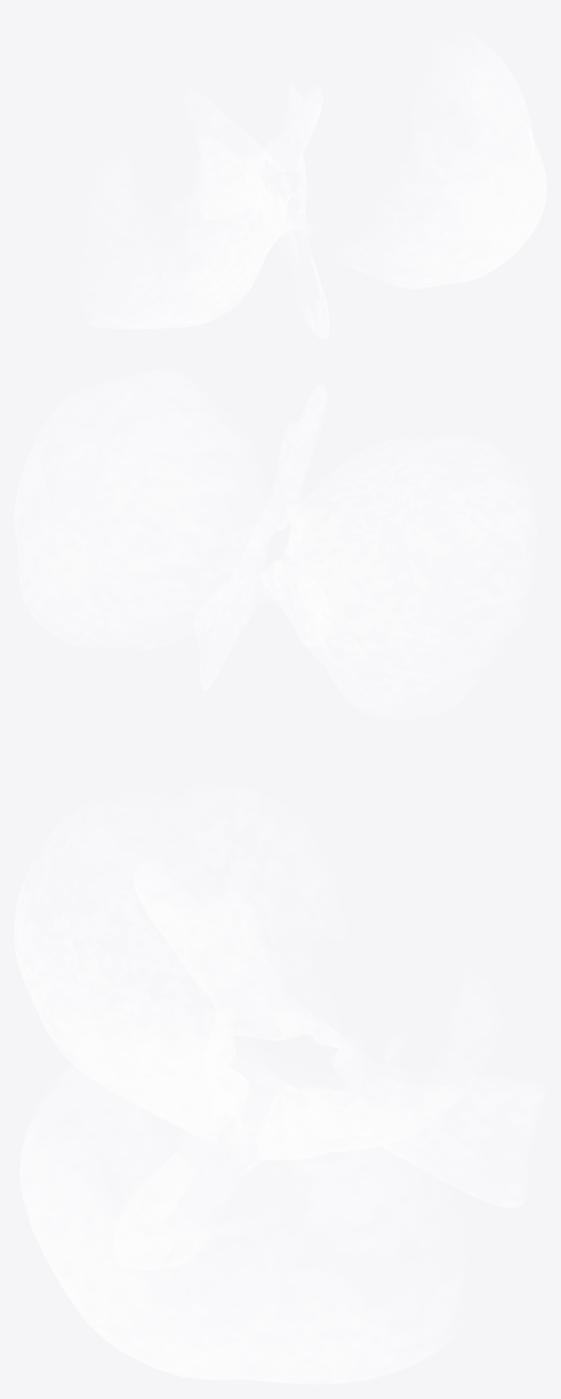
File: etacar_core.glb
The picture shows the model from 3 angles, top to bottom: view 1: azimuth 30°, elevation 25°; view 2: azimuth 150°, elevation 25°; view 3: azimuth 270°, elevation 25°; orthographic projection. The views are drawn at different scales.
Visible parts, largest first — view 1: Eta Car 3h.obj_baked; view 2: Eta Car 3h.obj_baked; view 3: Eta Car 3h.obj_baked.
Part boxes in pixels (x1,y1,x2,y2): Eta Car 3h.obj_baked: (84,34,546,339); Eta Car 3h.obj_baked: (14,370,536,719); Eta Car 3h.obj_baked: (14,789,545,1384).
Bounding box in the file's own units: 0.7492 × 0.3876 × 0.4568.
1 material, 1 textured.
